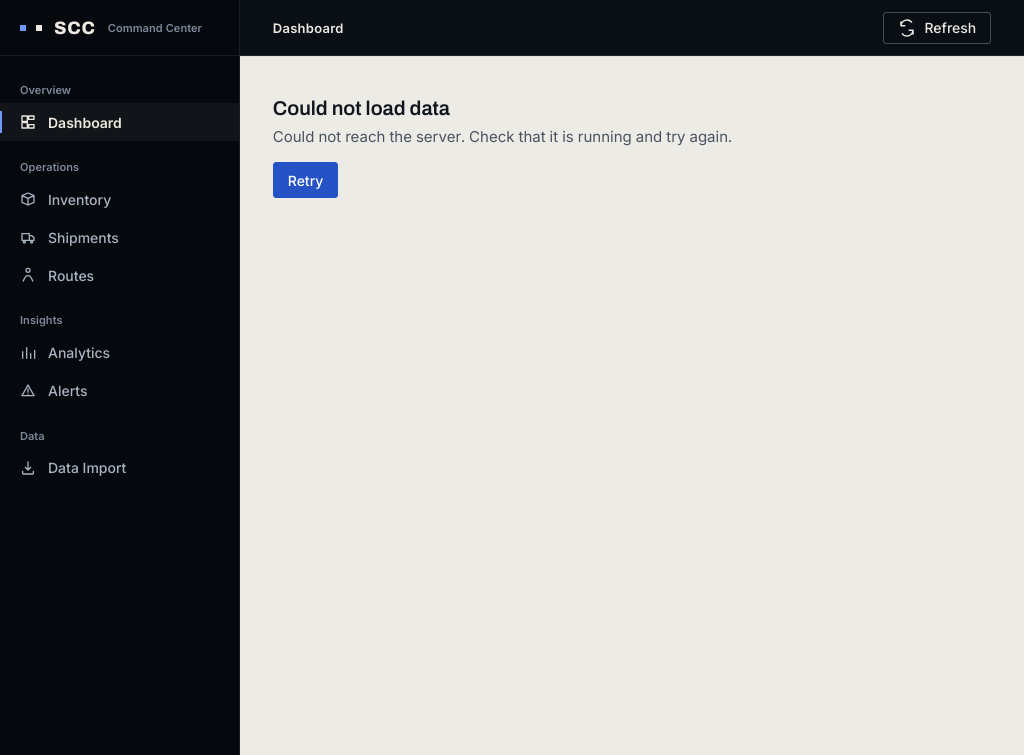
App › shows an error state on failure, and Retry recovers after a successful refetch
The image size is (1024, 755).
Expected: the text "Could not load data" is shown, left=273, top=97, right=450, bottom=119
Expected: the text "Could not reach the server" is shown, left=273, top=127, right=732, bottom=146
Click the button "Retry" at coordinates (306, 180), box left=273, top=162, right=338, bottom=198
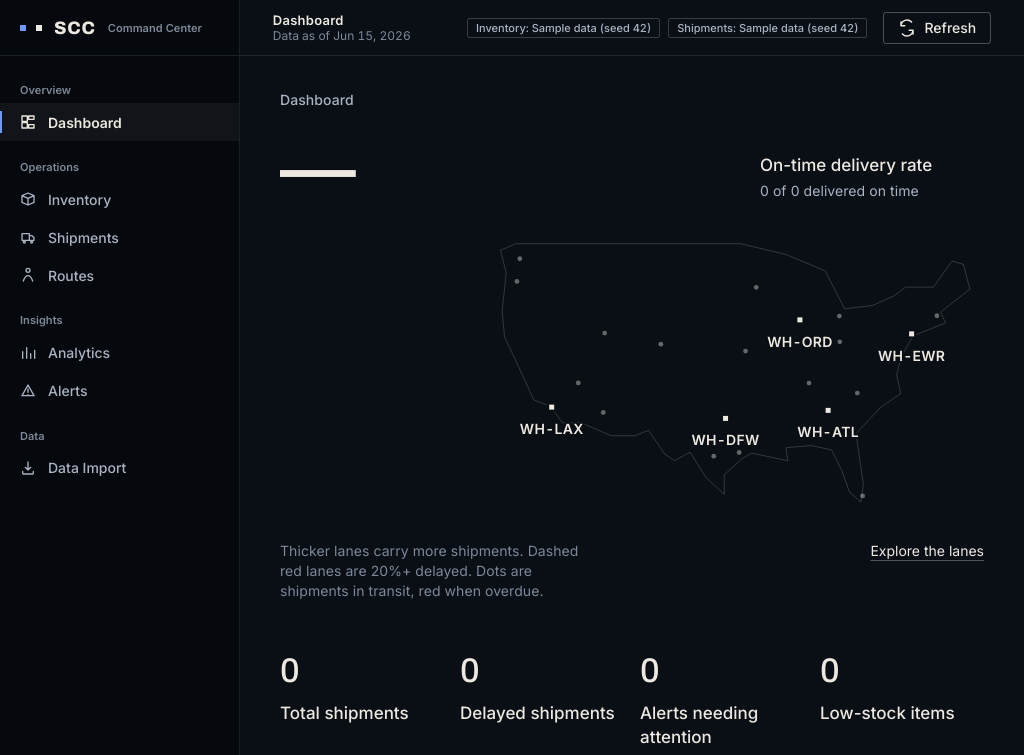
Expected: the heading "Dashboard" is shown, left=280, top=91, right=354, bottom=108
